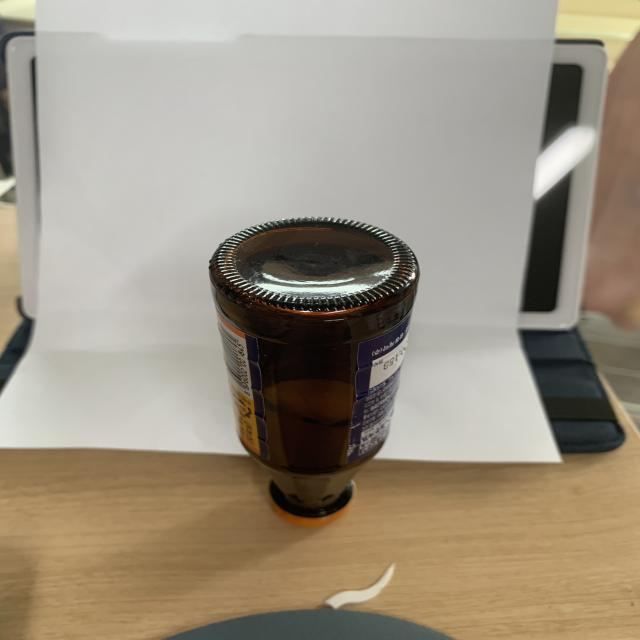Glass: (205, 216, 421, 527)
